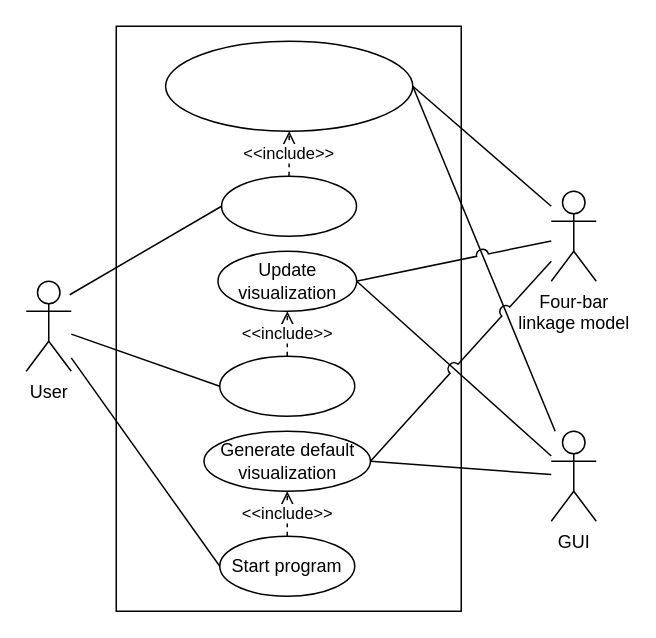
This 656x638 diagram has some shape labels left out. Here are the shapes that lost their labels. From the top down, the centre of each, then its label:
point 288,85: Update visualization every 25 ms by gradually adjusting input angle
point 288,205: Press button "animation"
point 286,385: Change parameters
